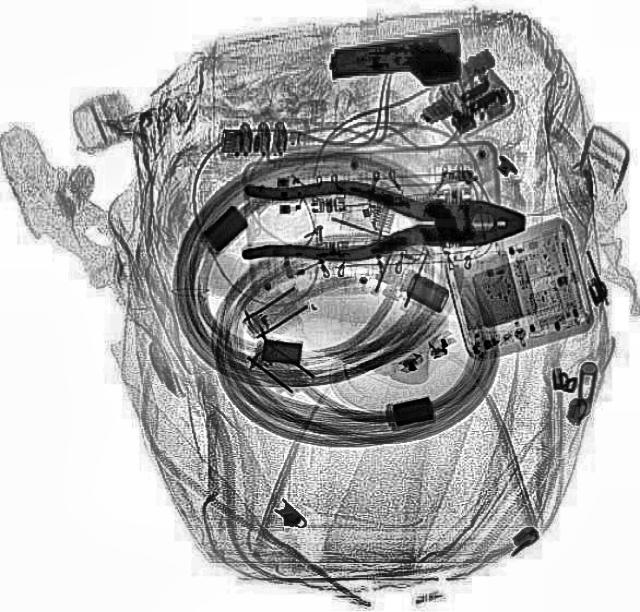Gun: (325, 29, 465, 95)
Pliers: (240, 178, 524, 262)
